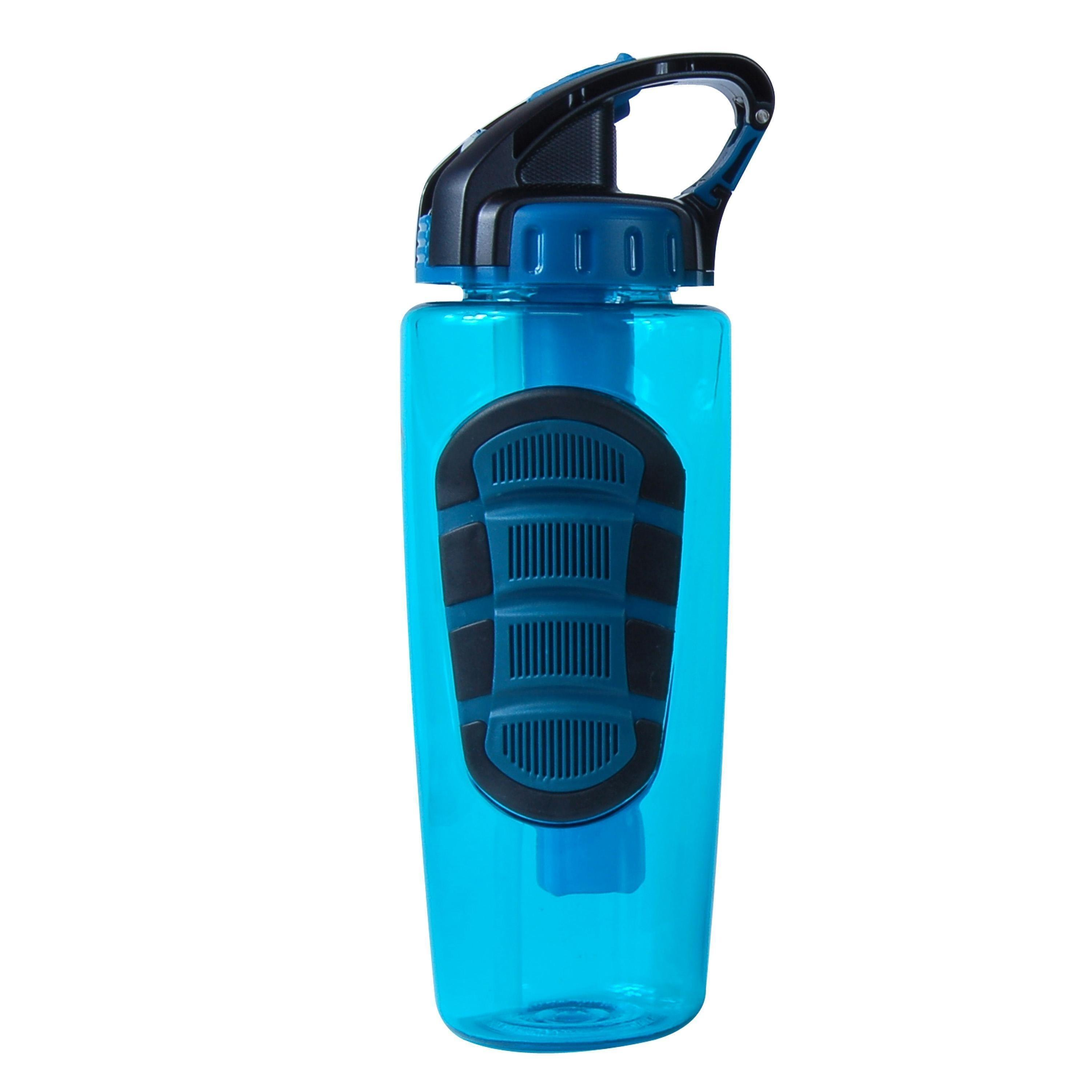gym bottle: (390, 39, 776, 1064)
